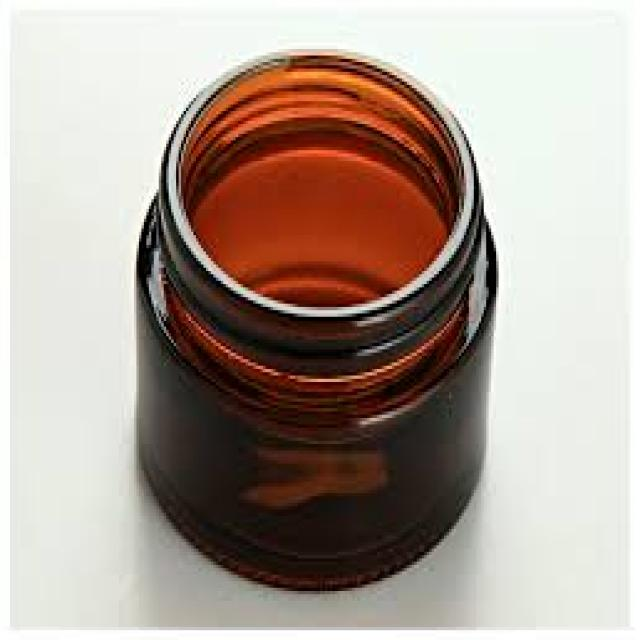Glass: (128, 43, 506, 595)
